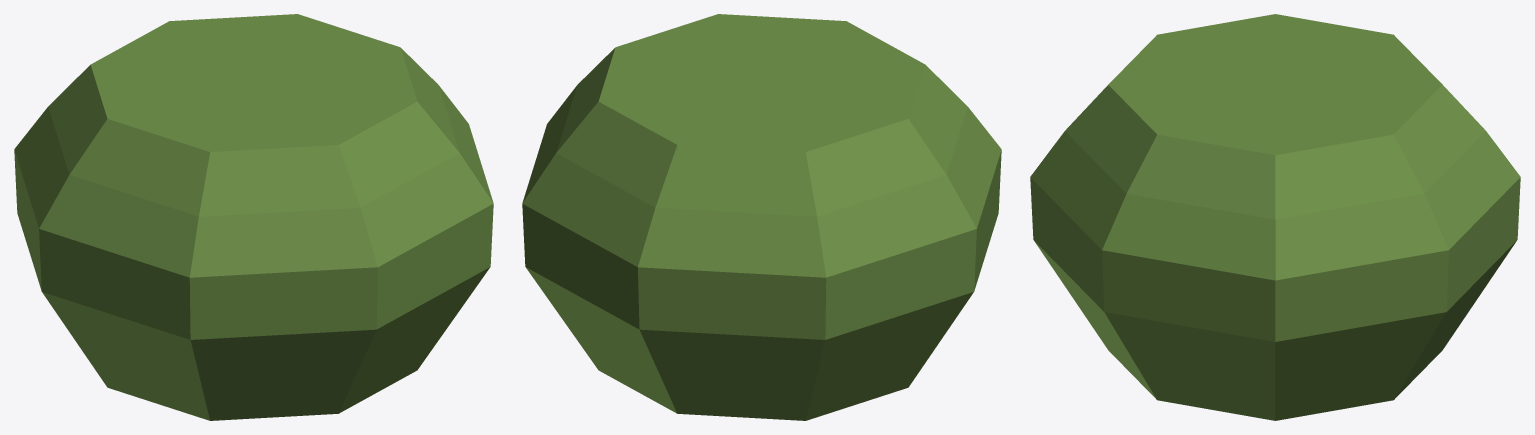
Rendered from small_bush.fbx.
3 renders of one model, left to right at view 1: azimuth 30°, elevation 25°; view 2: azimuth 150°, elevation 25°; view 3: azimuth 270°, elevation 25°, orthographic.
Visible parts, largest first — view 1: Cylinder; view 2: Cylinder; view 3: Cylinder.
Boxes of the visible parts, x1=… form: Cylinder: x1=14, y1=14, x2=493, y2=420; Cylinder: x1=522, y1=14, x2=1001, y2=420; Cylinder: x1=1030, y1=14, x2=1520, y2=420.
Bounding box in the file's own units: 485 × 290 × 485.
